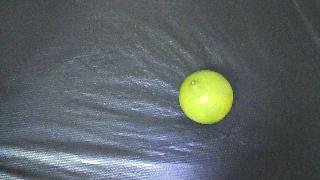LOCAL: (179, 70, 233, 124)
